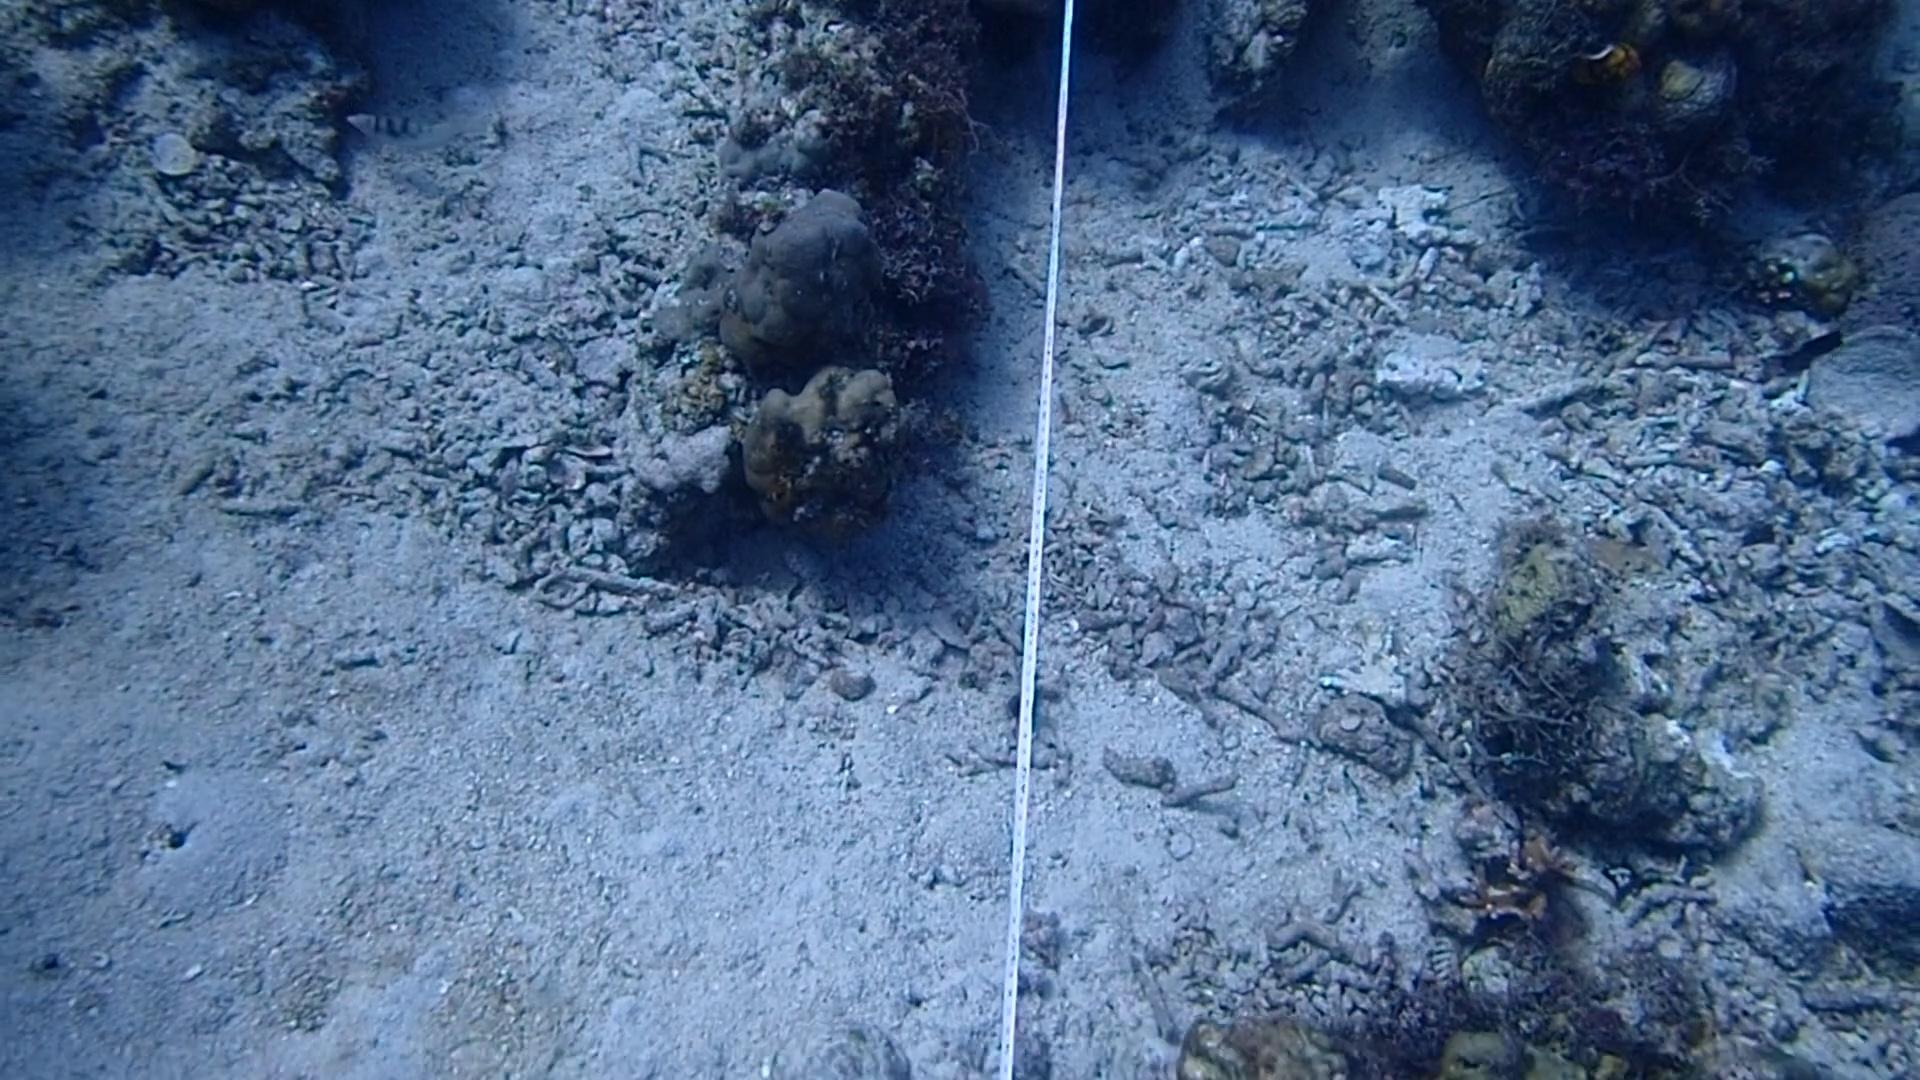Dark Fish: (1760, 315, 1847, 392)
